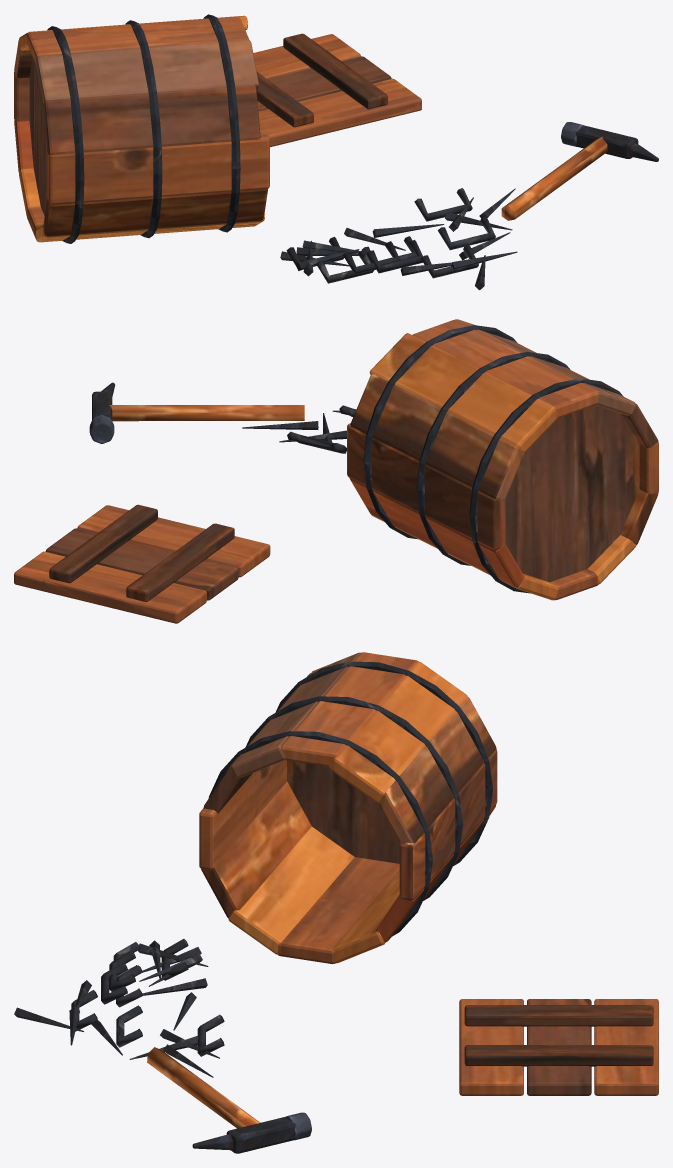
File: mp_nail_keg.glb
The picture shows the model from 3 angles, top to bottom: view 1: azimuth 30°, elevation 25°; view 2: azimuth 150°, elevation 25°; view 3: azimuth 270°, elevation 25°; orthographic projection. The views are drawn at different scales.
Parts seen in each view (by area): view 1: model; view 2: model; view 3: model.
Boxes of the visible parts, bbox=[...] form: model: bbox=[14, 14, 658, 290]; model: bbox=[14, 319, 658, 623]; model: bbox=[14, 652, 658, 1153].
Size of the model in its own units: 1.08 by 0.36 by 0.9565.
Materials: 11 (11 with a texture image).
